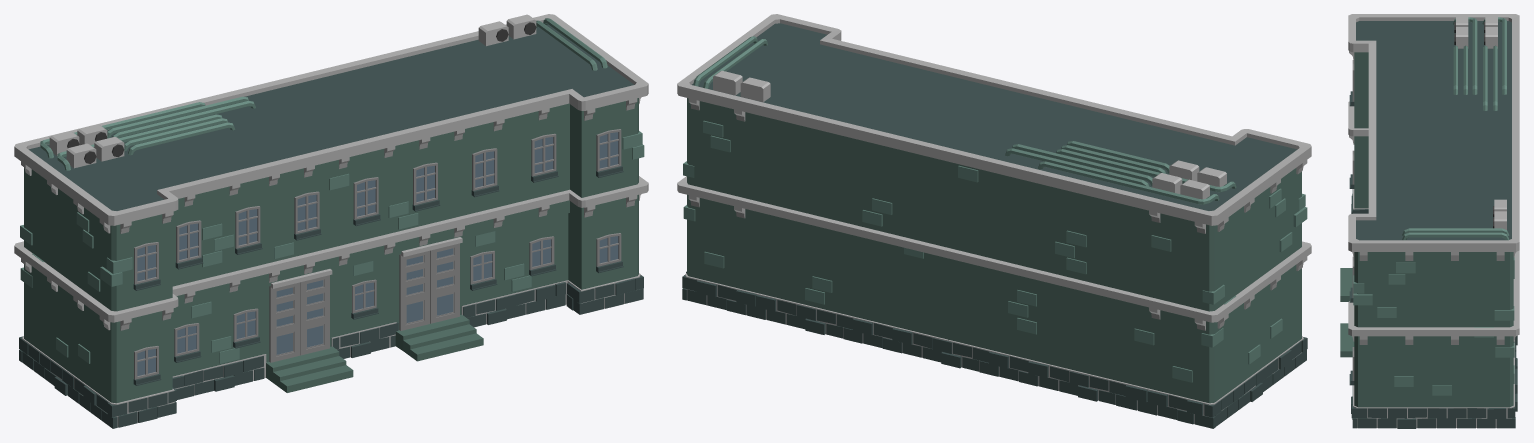
Rendered from 2Story_Wide_2Doors_Mat.glb.
3 renders of one model, left to right at view 1: azimuth 30°, elevation 25°; view 2: azimuth 150°, elevation 25°; view 3: azimuth 270°, elevation 25°, orthographic. The views are drawn at different scales.
Parts seen in each view (by area): view 1: 2Story_Wide_2Doors_Mat; view 2: 2Story_Wide_2Doors_Mat; view 3: 2Story_Wide_2Doors_Mat.
Part boxes in pixels (<box>): 2Story_Wide_2Doors_Mat: <box>14,14,648,428</box>; 2Story_Wide_2Doors_Mat: <box>677,14,1311,428</box>; 2Story_Wide_2Doors_Mat: <box>1340,14,1519,428</box>.
Size of the model in its own units: 6.83 by 2.75 by 2.26.
